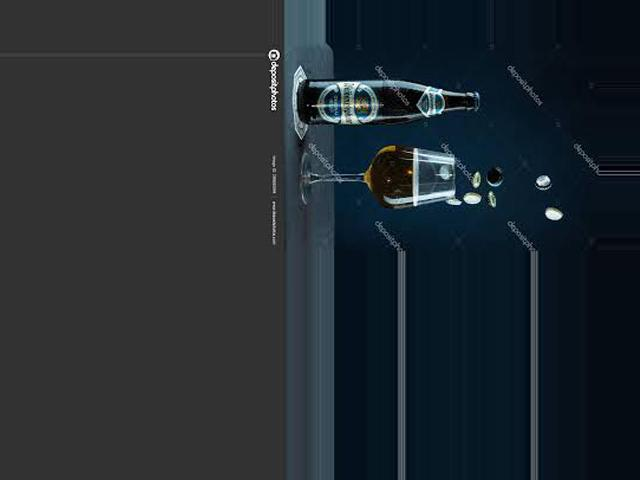beer: (299, 81, 477, 123)
